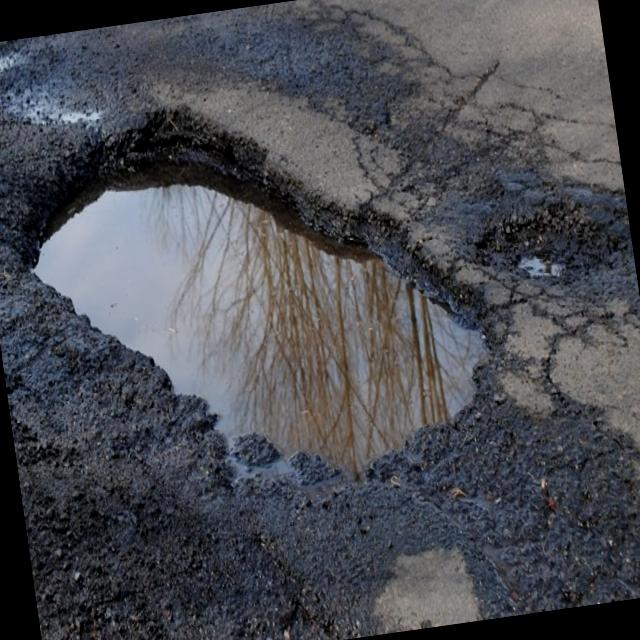bad-road: (1, 61, 512, 524), (480, 185, 628, 292)
